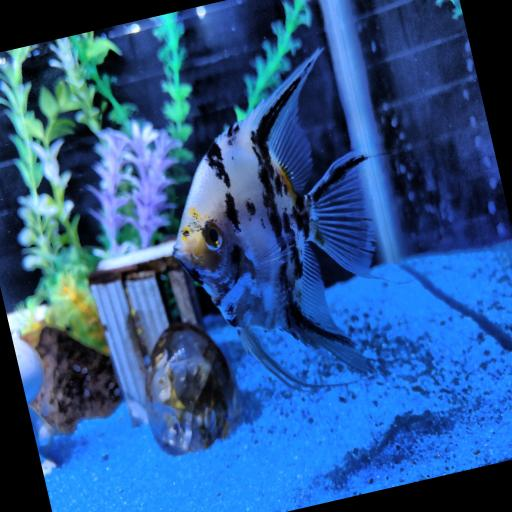Fish: (173, 51, 373, 385)
